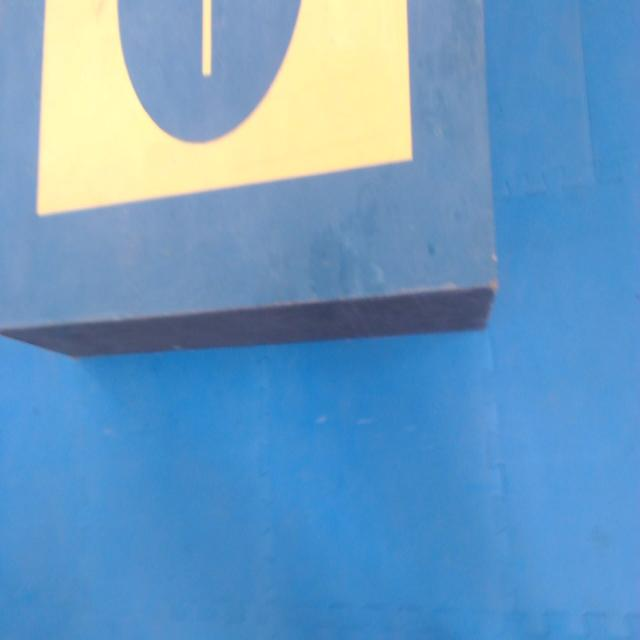base_inicio: (34, 0, 414, 217)
